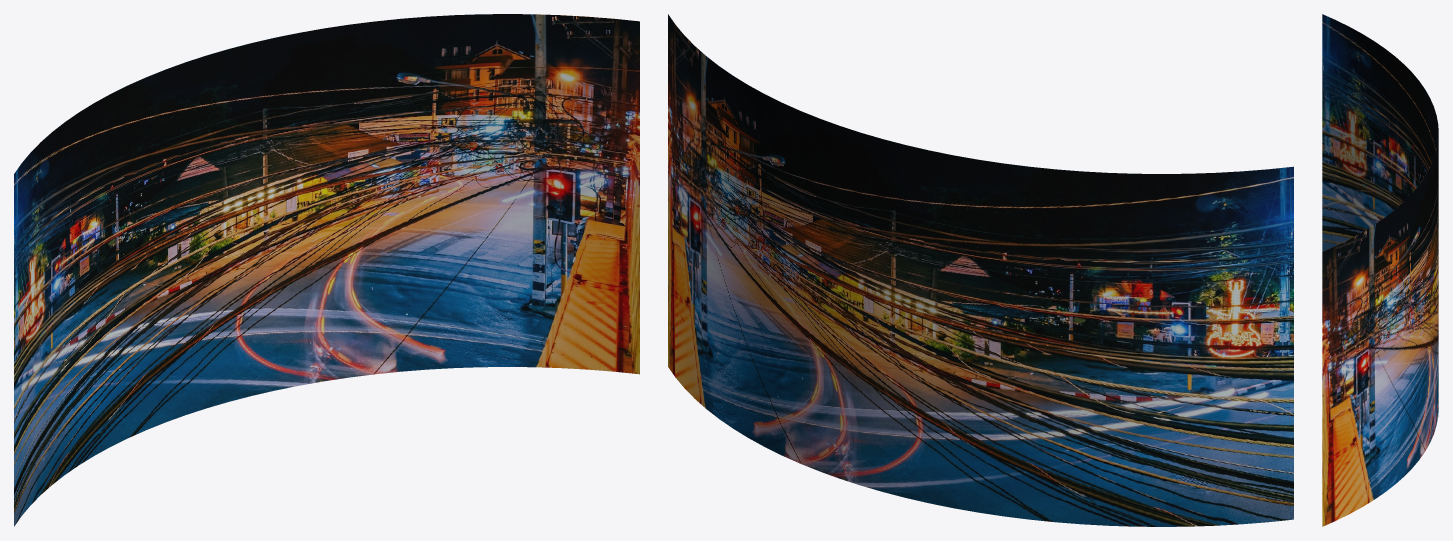
The picture shows the model from 3 angles, left to right: view 1: azimuth 30°, elevation 25°; view 2: azimuth 150°, elevation 25°; view 3: azimuth 270°, elevation 25°; orthographic projection. The views are drawn at different scales.
Parts seen in each view (by area): view 1: Plane001; view 2: Plane001; view 3: Plane001.
Part boxes in pixels (x1,y1,x2,y2): Plane001: (14, 14, 639, 526); Plane001: (668, 14, 1293, 526); Plane001: (1322, 14, 1438, 526).
Bounding box in the file's own units: 90.17 × 48.59 × 18.67.
